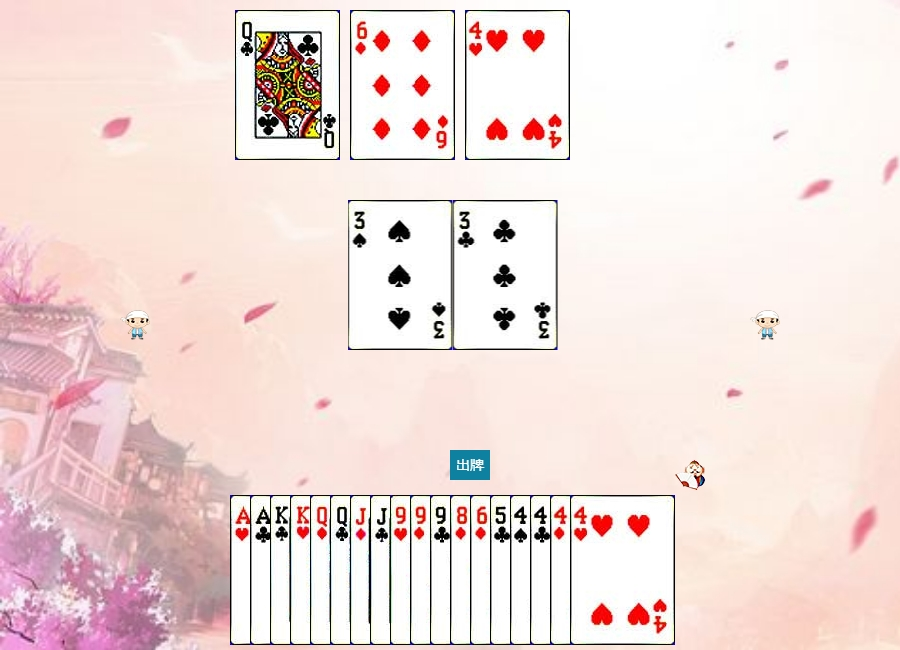11~1: (350, 495, 455, 645)
11~2: (370, 495, 475, 645)
12~1: (310, 495, 415, 645)
12~2: (235, 10, 340, 160), (330, 495, 435, 645)
13~2: (270, 495, 375, 645)
13~3: (290, 495, 395, 645)
14~2: (250, 495, 355, 645)
14~3: (230, 495, 335, 645)
3~2: (453, 200, 558, 350)
3~4: (348, 200, 453, 350)
4~1: (550, 495, 655, 645)
4~2: (530, 495, 635, 645)
4~3: (465, 10, 570, 160), (570, 495, 675, 645)
4~4: (510, 495, 615, 645)
5~2: (490, 495, 595, 645)
6~1: (350, 10, 455, 160), (470, 495, 575, 645)
8~1: (450, 495, 555, 645)
9~1: (410, 495, 515, 645)
9~2: (430, 495, 535, 645)
9~3: (390, 495, 495, 645)
